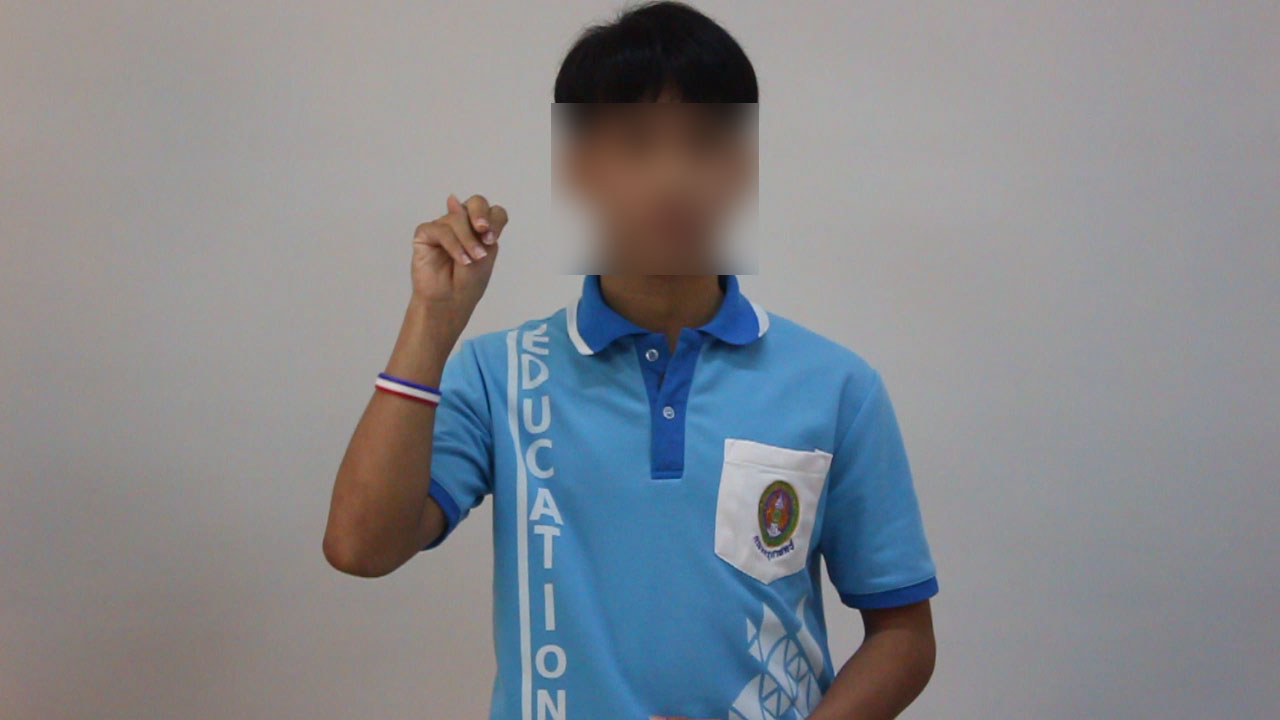nor: (396, 186, 521, 304)
